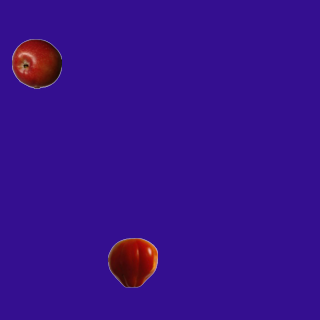Apple Braeburn: (11, 38, 61, 88)
Tomato 1: (107, 237, 157, 287)
